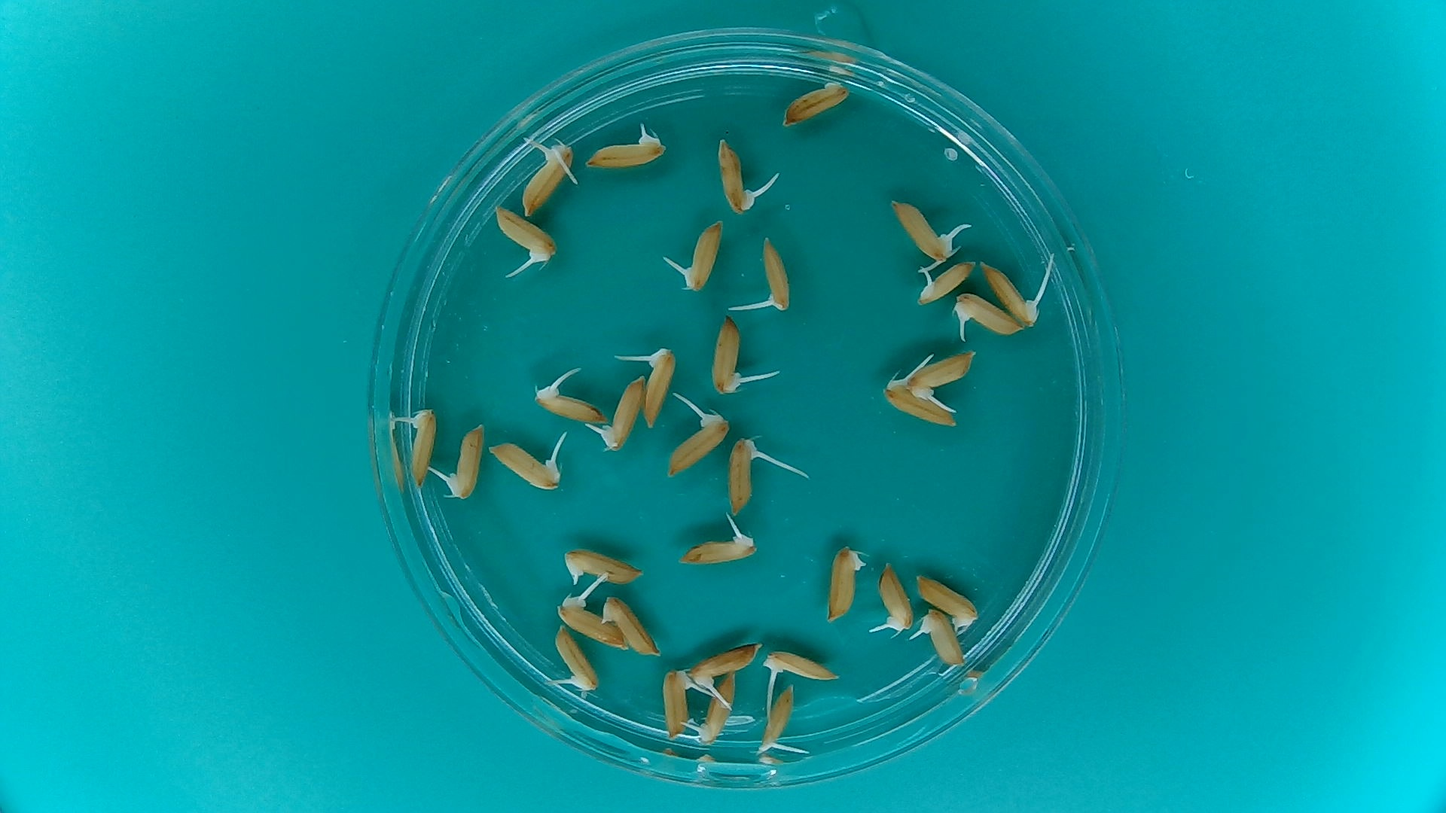no: (911, 572, 982, 629), (601, 592, 660, 658), (823, 545, 868, 626), (780, 79, 852, 127)
yes: (978, 257, 1042, 327), (887, 199, 956, 261), (487, 437, 560, 492), (521, 142, 575, 216), (494, 211, 560, 271), (560, 542, 647, 586), (686, 638, 762, 688), (883, 380, 956, 432), (668, 413, 728, 476), (599, 371, 645, 451), (556, 599, 625, 650), (908, 348, 975, 400), (760, 645, 843, 686), (951, 291, 1023, 338), (917, 605, 968, 669), (553, 624, 602, 690), (642, 345, 679, 432), (874, 557, 915, 634), (753, 684, 798, 754), (713, 141, 754, 216), (728, 434, 764, 518), (915, 256, 978, 304), (674, 531, 755, 568), (709, 312, 744, 397), (699, 669, 737, 747), (447, 419, 485, 497), (683, 225, 726, 293), (536, 385, 607, 425), (404, 404, 437, 489), (759, 236, 794, 314), (587, 133, 660, 169), (660, 665, 694, 739)
